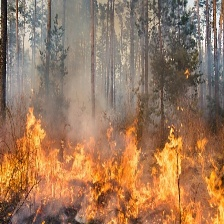fire: (3, 111, 224, 223)
smoke: (61, 2, 119, 137)
